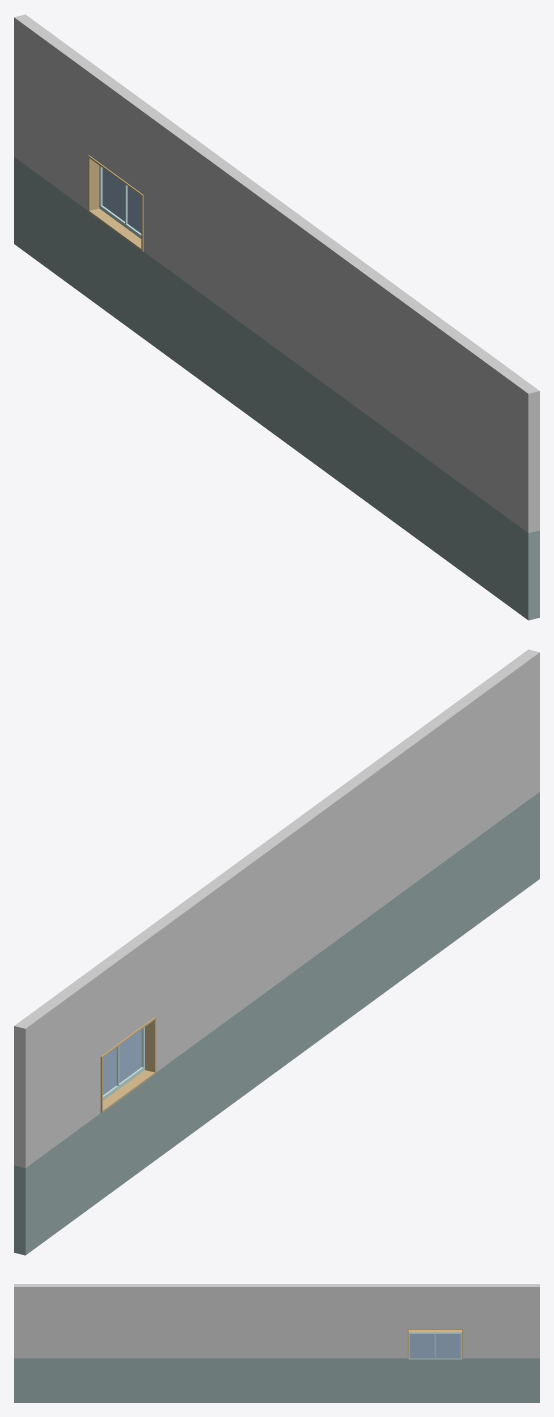
Rendered from Wall_Right.fbx.
The picture shows the model from 3 angles, top to bottom: view 1: azimuth 30°, elevation 25°; view 2: azimuth 150°, elevation 25°; view 3: azimuth 270°, elevation 25°; orthographic projection. The views are drawn at different scales.
Visible parts, largest first — view 1: Wall; view 2: Wall; view 3: Wall.
Boxes of the visible parts, <box> form: Wall: <box>14,14,539,620</box>; Wall: <box>14,649,539,1255</box>; Wall: <box>14,1284,539,1402</box>.
Bounding box in the file's own units: 229 × 8647 × 2102.
